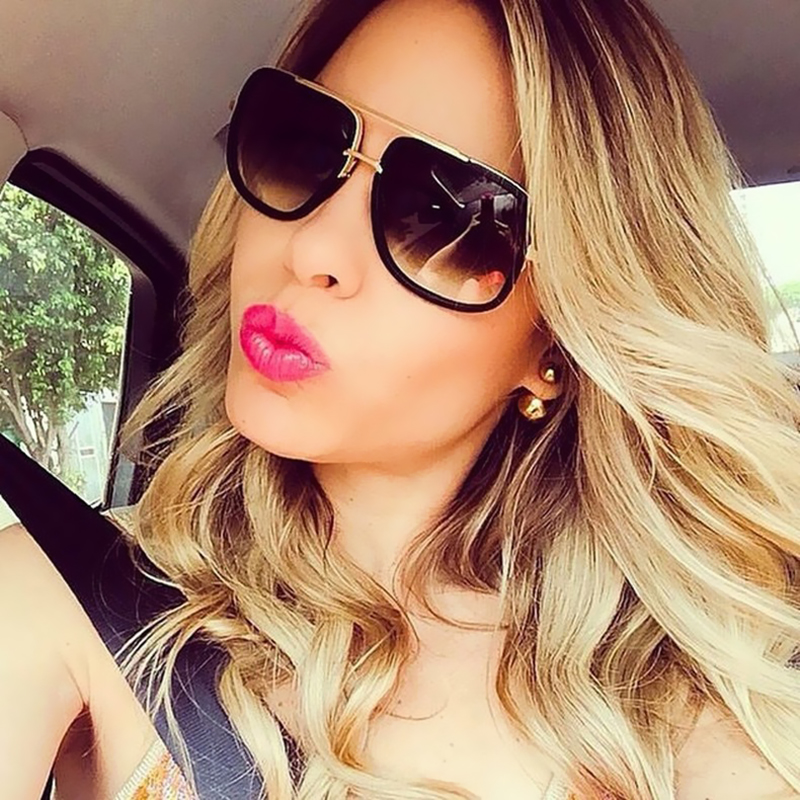sunglasses: (178, 57, 580, 318)
